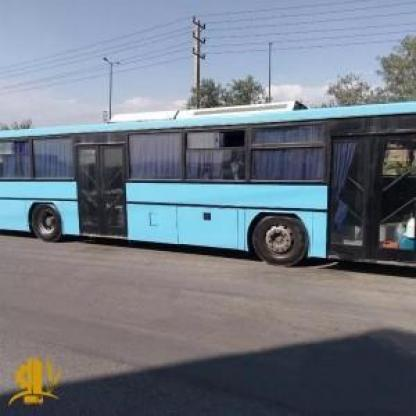Bus: (0, 94, 416, 293)
